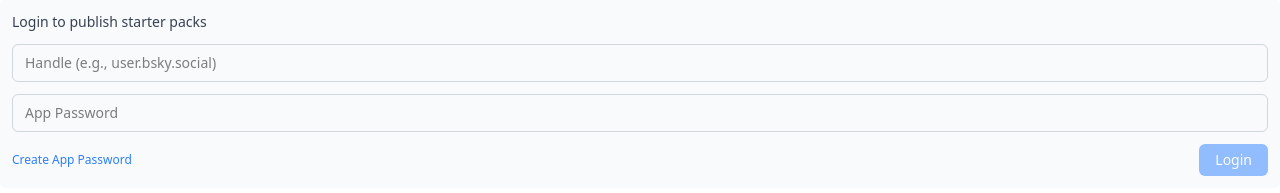
Test: AuthForm › shows Logging in... during login
The image size is (1280, 193).
Type "user" into the field with placeholder "Handle (e.g., user.bsky.social)" at (640, 63), box top-left (12, 44), bottom-right (1268, 82)
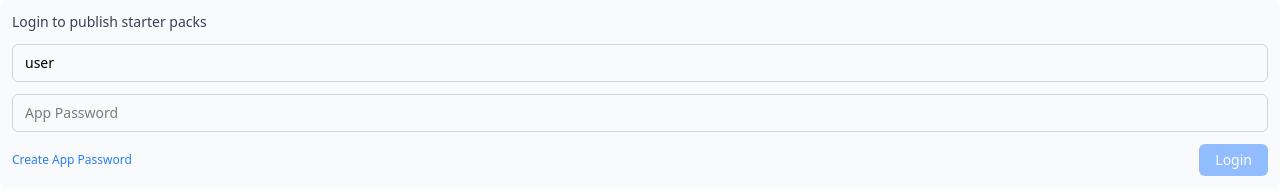
Type "pass" into the password field with placeholder "App Password" at (640, 113), box top-left (12, 94), bottom-right (1268, 132)
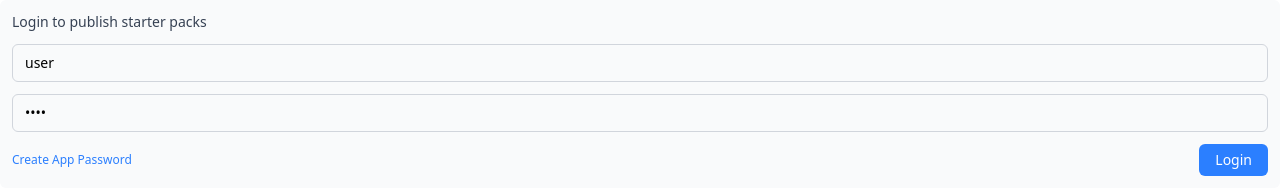
Click the button "Login" at (1234, 160), box top-left (1199, 144), bottom-right (1268, 176)
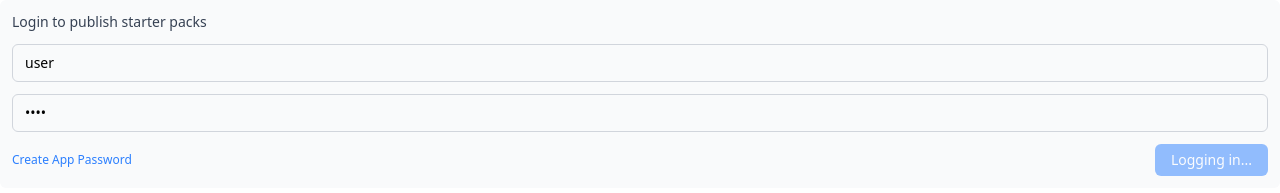
Result: the button "Logging in..." is disabled at top-left (1155, 144), bottom-right (1268, 176)
